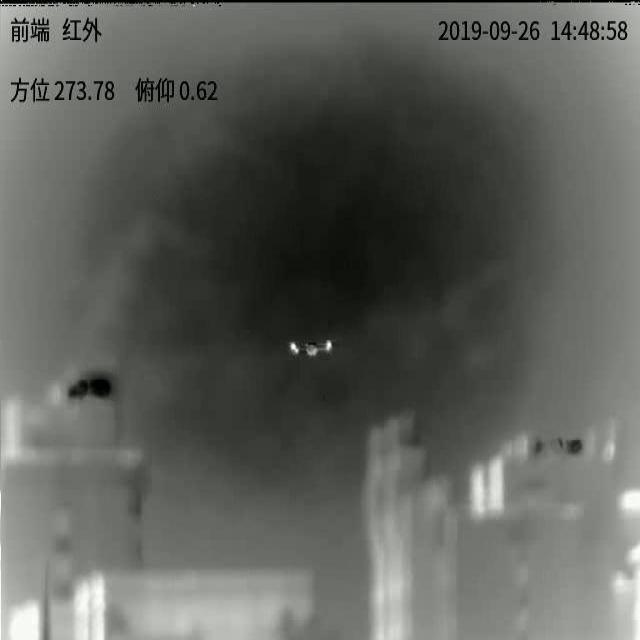drone: (289, 340, 332, 356)
